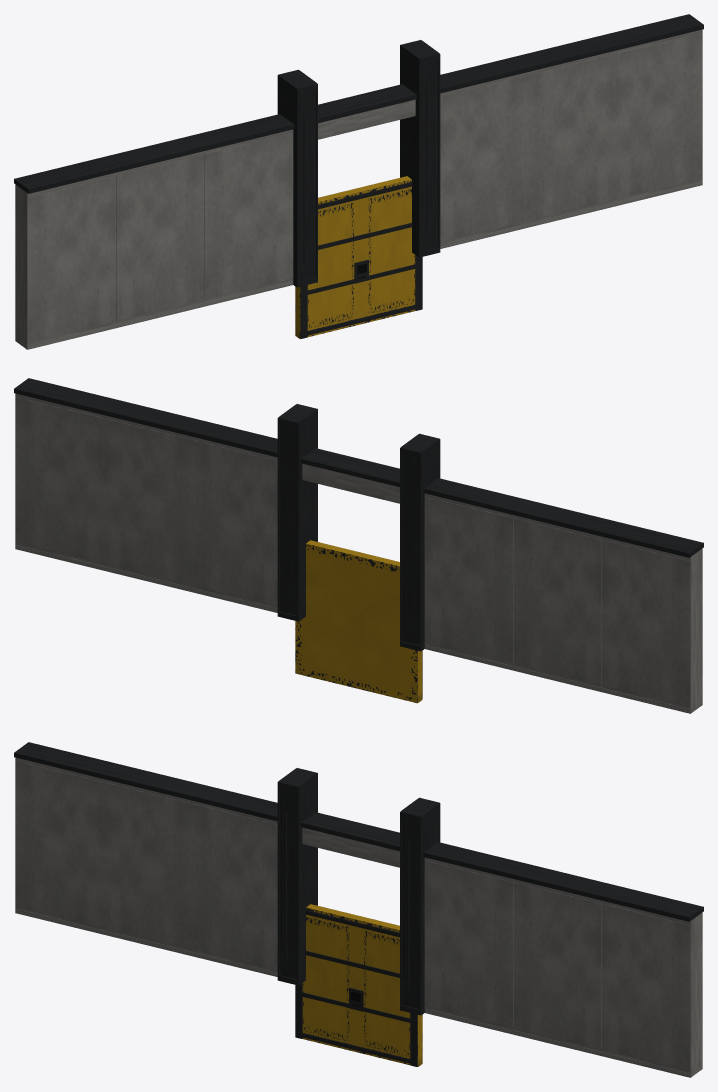
File: CityGatePilot.fbx
3 views of the same model, one above another, from view 1: azimuth 30°, elevation 25°; view 2: azimuth 150°, elevation 25°; view 3: azimuth 330°, elevation 25° (orthographic).
Visible parts, largest first — view 1: GateStaticShell.001, GateMovingLeaf.001; view 2: GateStaticShell.001, GateMovingLeaf.001; view 3: GateStaticShell.001, GateMovingLeaf.001.
Part boxes in pixels (left/top/right/bottom): GateStaticShell.001: left=14, top=14, right=703, bottom=349; GateMovingLeaf.001: left=295, top=176, right=422, bottom=338; GateStaticShell.001: left=14, top=378, right=703, bottom=713; GateMovingLeaf.001: left=295, top=540, right=422, bottom=703; GateStaticShell.001: left=14, top=742, right=703, bottom=1077; GateMovingLeaf.001: left=295, top=904, right=422, bottom=1066.
Bounding box in the file's own units: 16 × 5.85 × 0.8.
